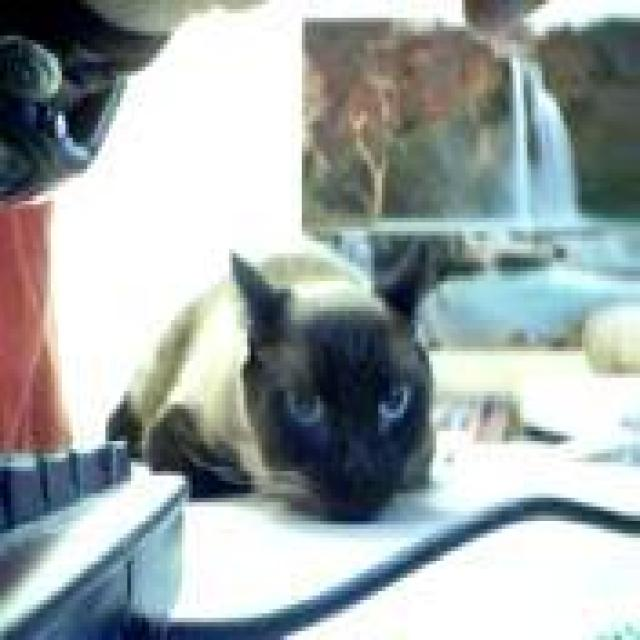cats: (105, 249, 435, 522)
